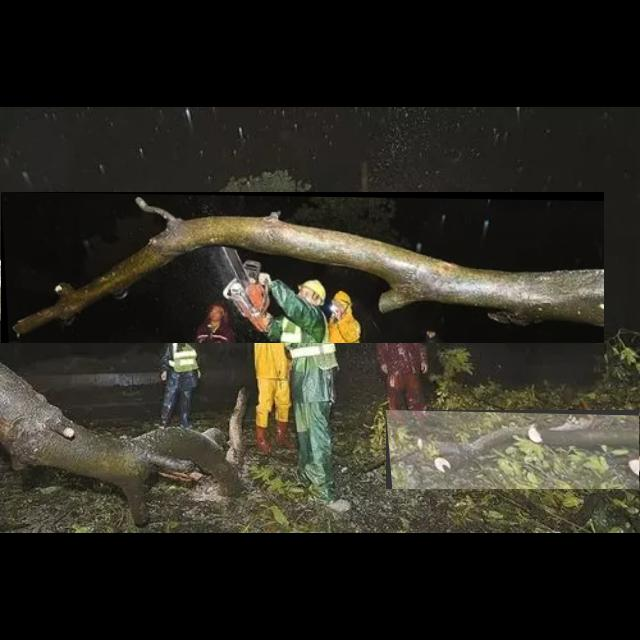Fallen Tree: (1, 192, 605, 344), (386, 410, 640, 490)
